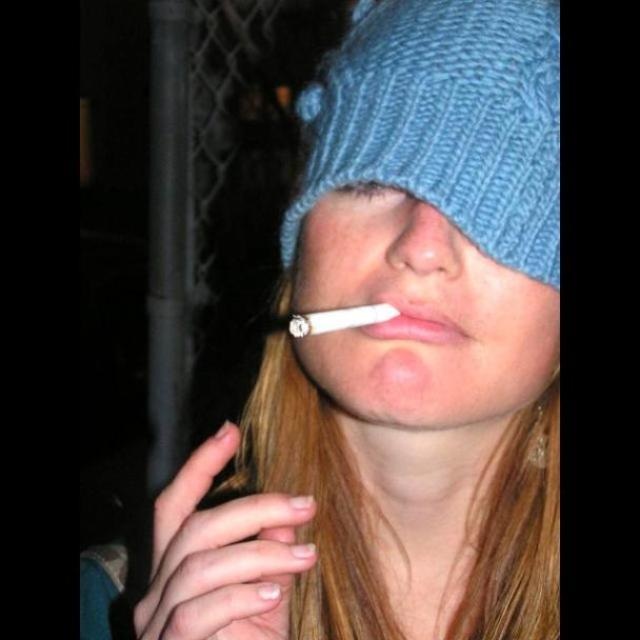rokok: (277, 300, 405, 342)
